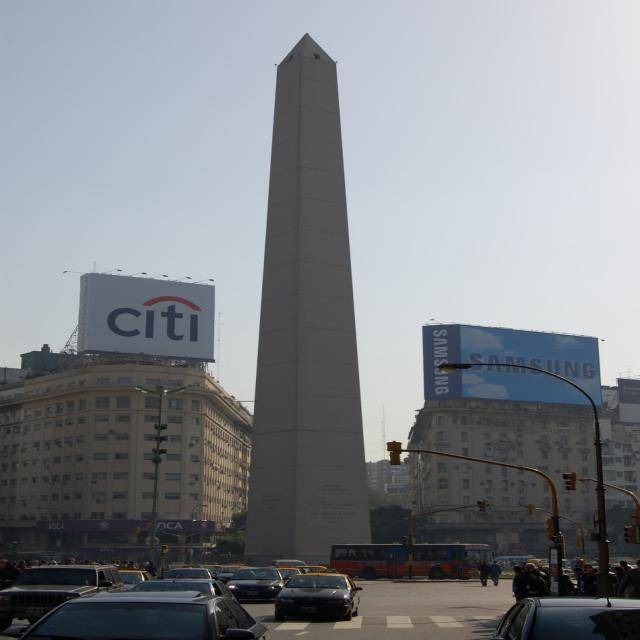body: (591, 565, 620, 615), (349, 550, 447, 562), (525, 568, 549, 599), (625, 559, 640, 600), (79, 558, 128, 570), (557, 567, 576, 597), (64, 557, 80, 591), (524, 562, 551, 582), (511, 565, 525, 602), (573, 566, 590, 596), (582, 568, 598, 596), (0, 557, 11, 593), (7, 560, 20, 590), (478, 560, 492, 587), (488, 560, 502, 586), (144, 560, 158, 585), (613, 565, 627, 583), (618, 560, 632, 575), (126, 560, 140, 570), (10, 562, 22, 573), (575, 556, 585, 568), (17, 560, 29, 570), (36, 559, 50, 567), (27, 560, 40, 568), (538, 565, 551, 573), (509, 558, 518, 567), (62, 558, 72, 565), (49, 560, 58, 566)
